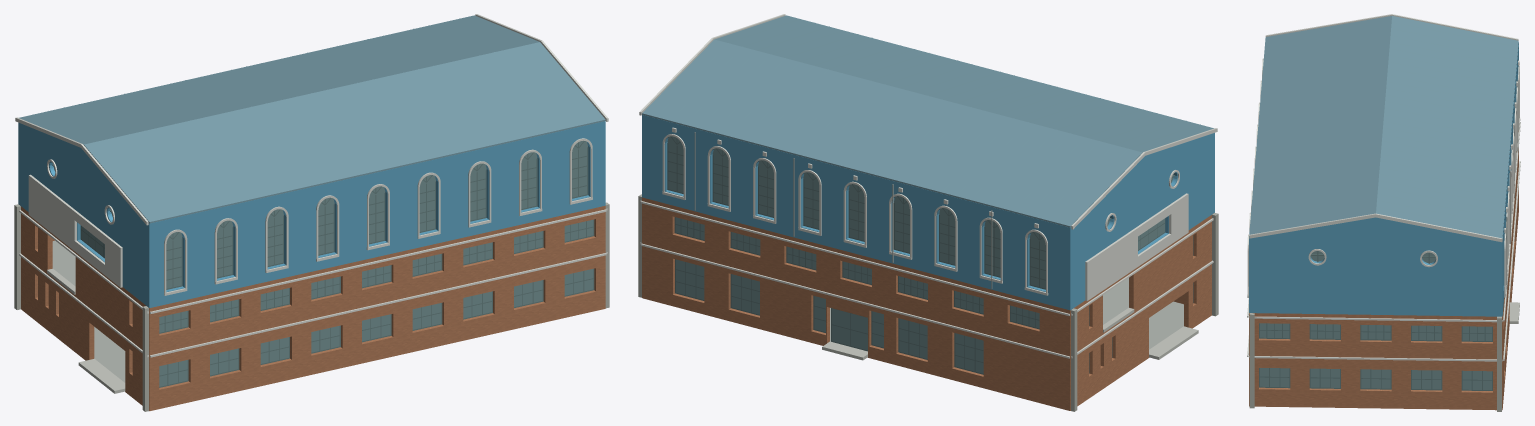
3 renders of one model, left to right at view 1: azimuth 30°, elevation 25°; view 2: azimuth 150°, elevation 25°; view 3: azimuth 270°, elevation 25°, orthographic. The views are drawn at different scales.
Visible parts, largest first — view 1: gym__roof, gym__brick, gym__blue, gym__glass, gym__white, gym__frame, gym__pier, gym__floor-structure, gym__threshold-entry; view 2: gym__roof, gym__brick, gym__blue, gym__glass, gym__white, gym__frame, gym__floor-structure, gym__pier, gym__threshold-entry, gym__metal; view 3: gym__roof, gym__blue, gym__brick, gym__white, gym__glass, gym__frame, gym__pier, gym__metal.
Boxes of the visible parts, x1,y1,x2,y2 form: gym__roof: (19,15,605,223); gym__brick: (21,205,605,411); gym__blue: (18,121,605,307); gym__glass: (54,140,593,386); gym__white: (15,14,608,357); gym__frame: (52,141,594,387); gym__pier: (14,202,609,411); gym__floor-structure: (52,240,125,382); gym__threshold-entry: (47,268,125,393); gym__roof: (642,15,1213,227); gym__brick: (642,197,1211,410); gym__blue: (642,115,1214,310); gym__glass: (667,136,1173,373); gym__white: (639,14,1217,358); gym__frame: (667,136,1193,374); gym__floor-structure: (830,278,1183,349); gym__pier: (638,194,1218,411); gym__threshold-entry: (822,307,1198,360); gym__metal: (694,132,992,288); gym__roof: (1249,16,1518,238); gym__blue: (1249,42,1518,316); gym__brick: (1249,130,1518,410); gym__white: (1247,14,1520,361); gym__glass: (1260,251,1491,389); gym__frame: (1259,251,1492,390); gym__pier: (1249,313,1501,411); gym__metal: (1506,80,1518,289).
Bounding box in the file's own units: 39.48 × 17.33 × 22.01.
10 materials, 1 textured.
